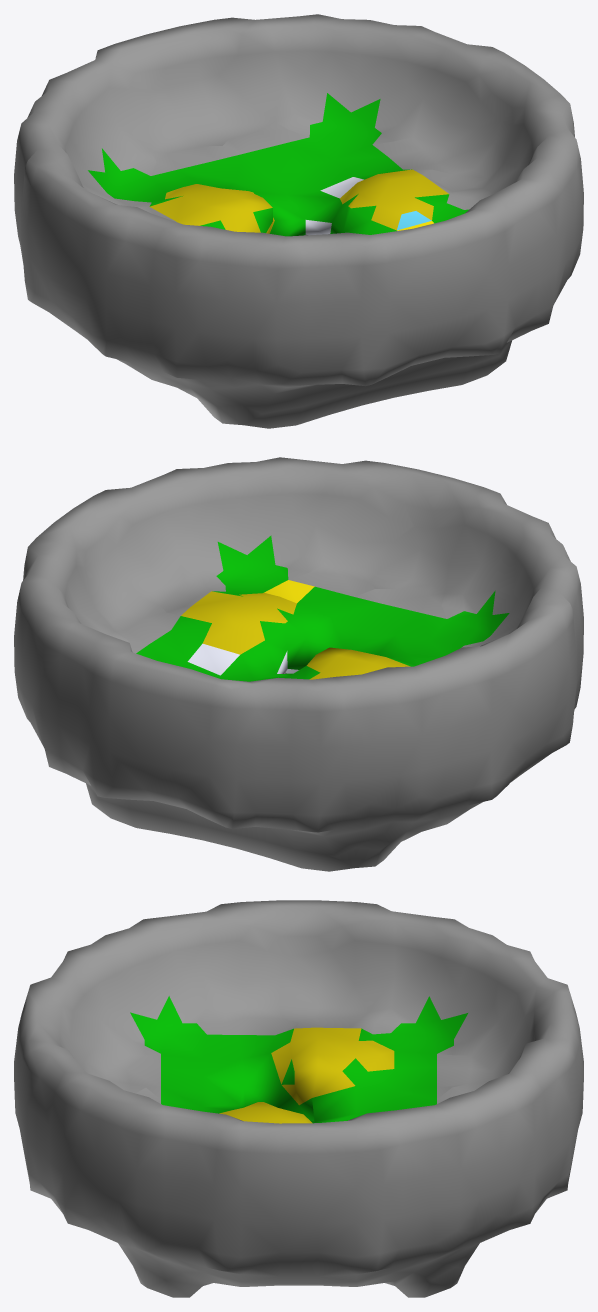
File: dummy_link4_remeshed.dae
3 renders of one model, top to bottom at view 1: azimuth 30°, elevation 25°; view 2: azimuth 150°, elevation 25°; view 3: azimuth 270°, elevation 25°, orthographic.
Parts seen in each view (by area): view 1: node0; view 2: node0; view 3: node0.
Boxes of the visible parts, x1=… form: node0: x1=14, y1=14, x2=583, y2=428; node0: x1=14, y1=457, x2=583, y2=871; node0: x1=14, y1=900, x2=583, y2=1297.
Size of the model in its own units: 0.0447 by 0.0447 by 0.0191.
